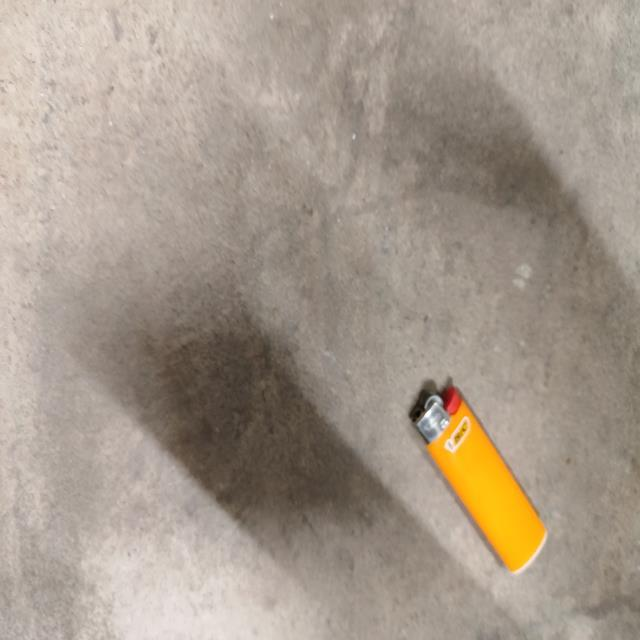lighter: (409, 380, 546, 573)
